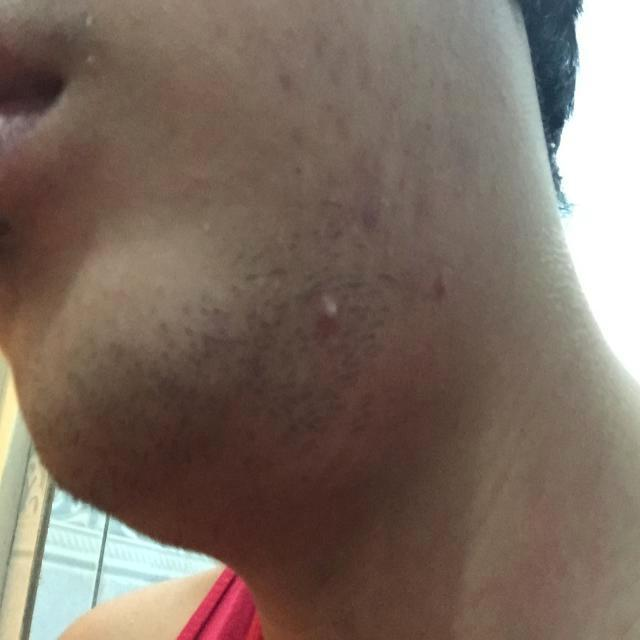Pimples: (304, 282, 362, 343)
